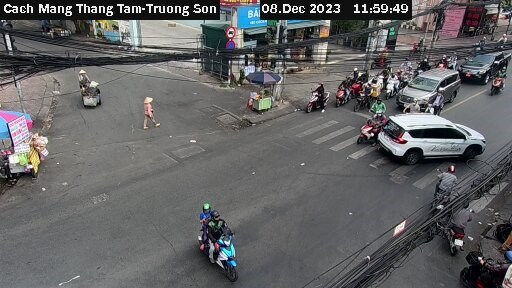car: (380, 105, 490, 164), (389, 64, 462, 113), (460, 45, 504, 81)
motorbike: (189, 205, 254, 275), (431, 167, 475, 210), (436, 209, 476, 246), (302, 85, 334, 116), (486, 67, 512, 94), (356, 119, 378, 145), (332, 80, 353, 105), (365, 96, 388, 118)
